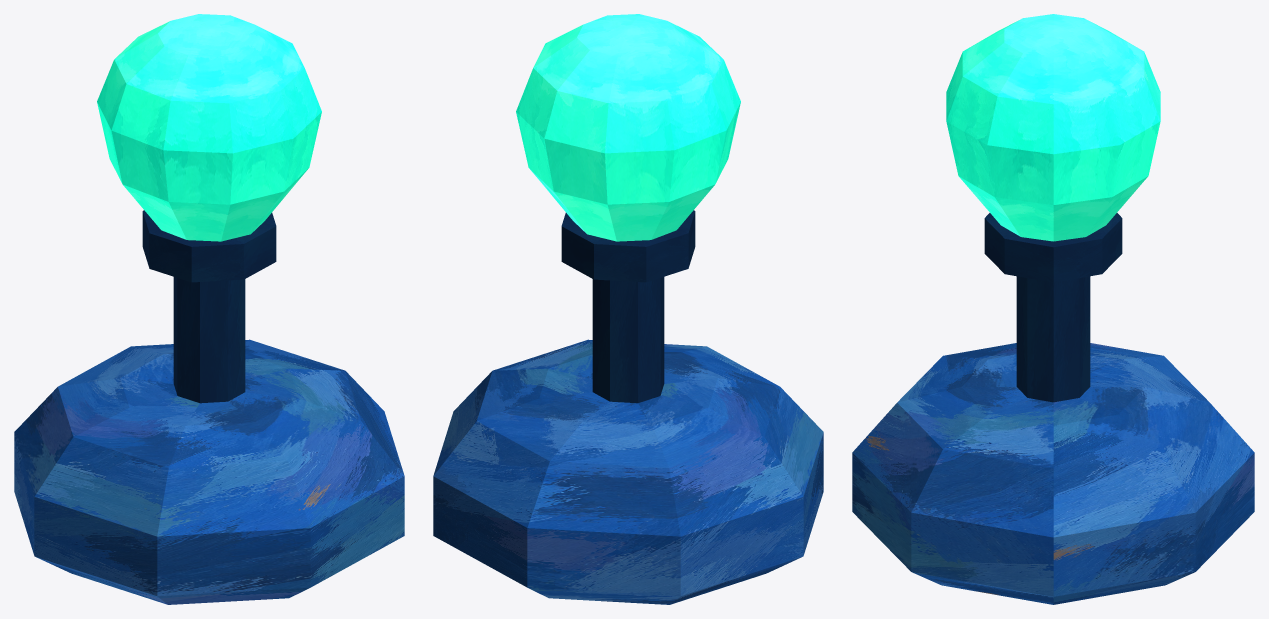
The model's file is part-shield.glb.
3 renders of one model, left to right at view 1: azimuth 30°, elevation 25°; view 2: azimuth 150°, elevation 25°; view 3: azimuth 270°, elevation 25°, orthographic.
Visible parts, largest first — view 1: Shield_Base, Shield_Crystal, Shield_Stem; view 2: Shield_Base, Shield_Crystal, Shield_Stem; view 3: Shield_Base, Shield_Crystal, Shield_Stem.
Boxes of the visible parts, x1,y1,x2,y2 form: Shield_Base: (14, 339, 404, 604); Shield_Crystal: (97, 14, 321, 241); Shield_Stem: (142, 210, 276, 403); Shield_Base: (433, 339, 823, 604); Shield_Crystal: (516, 14, 740, 241); Shield_Stem: (561, 210, 695, 403); Shield_Base: (852, 343, 1254, 604); Shield_Crystal: (946, 14, 1160, 241); Shield_Stem: (984, 213, 1122, 402).
Size of the model in its own units: 0.35 by 0.488 by 0.35.
3 materials, 3 textured.
